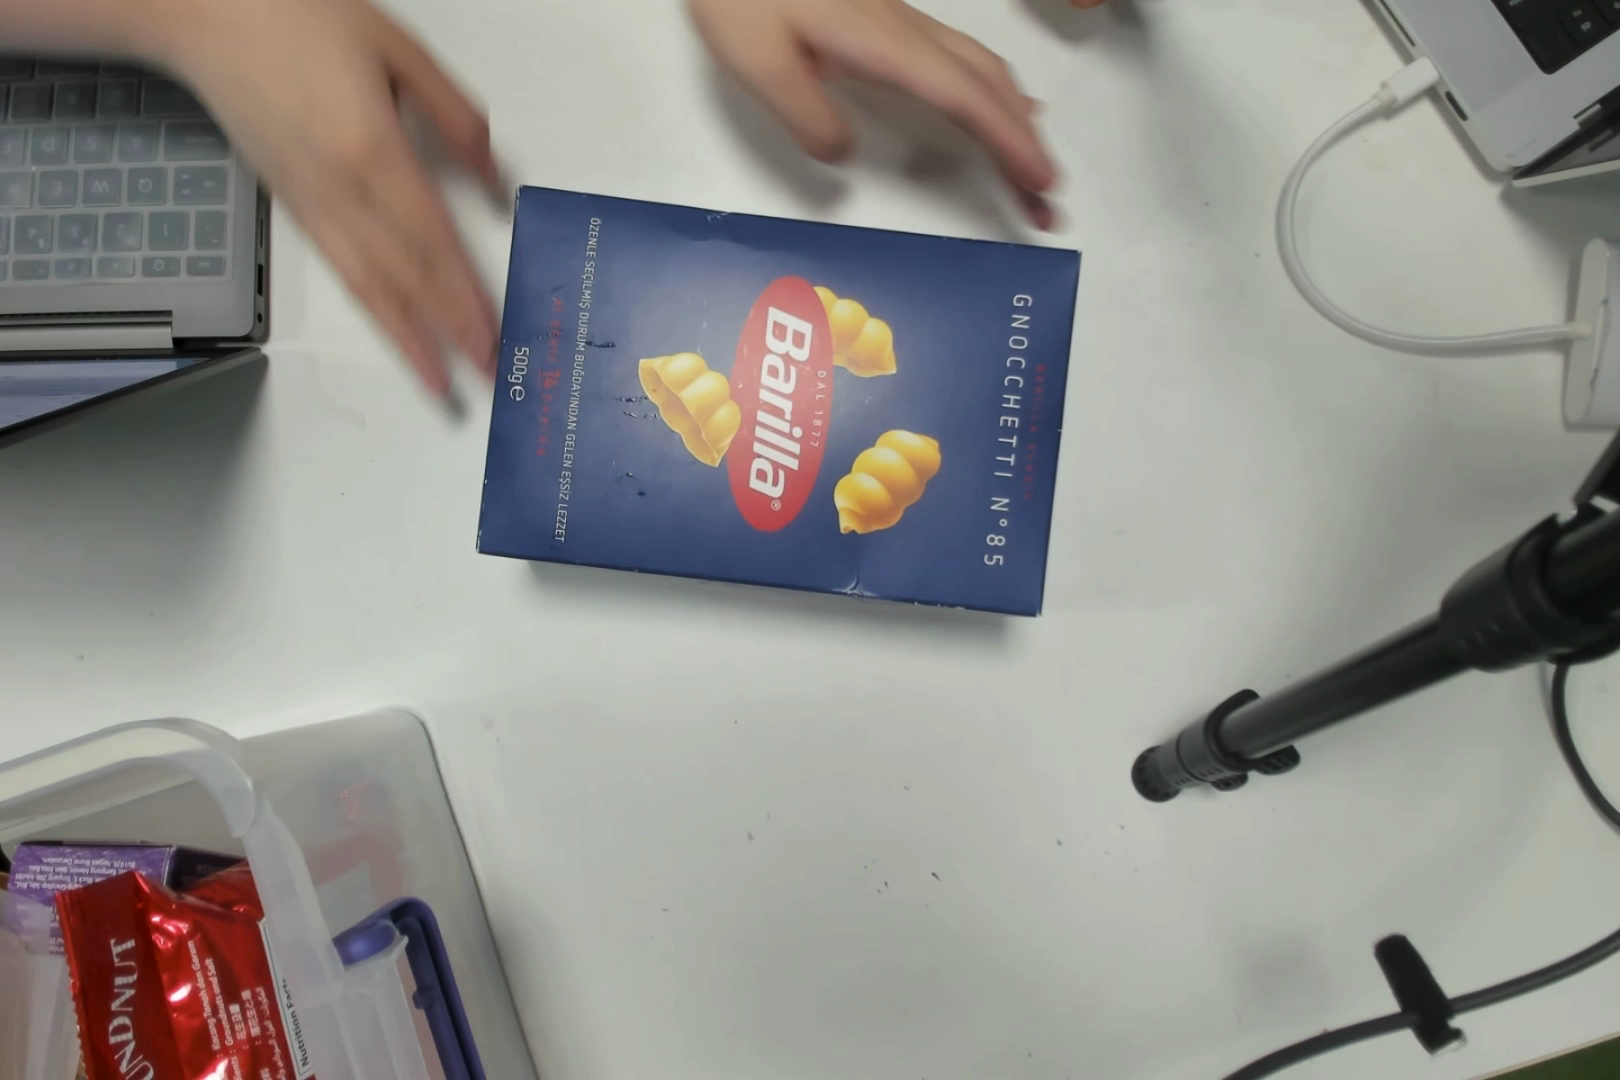Pasta_500-599g_NonHalal_NonHealthy: (520, 201, 1079, 594)
